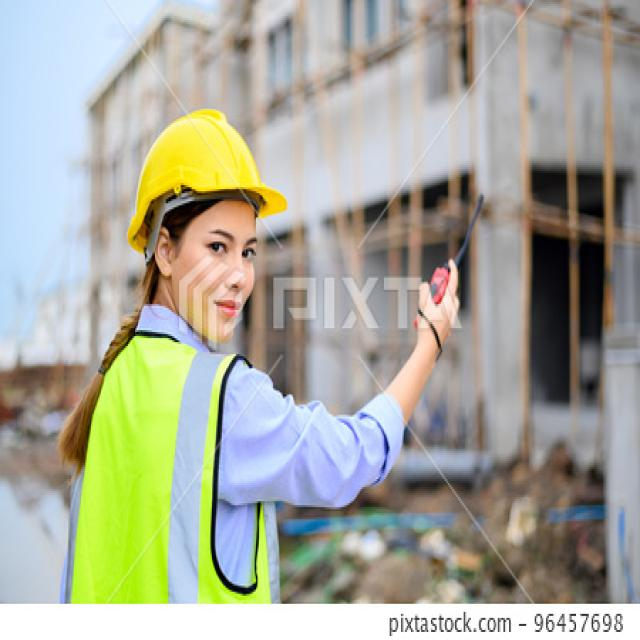helmet: (116, 114, 289, 245)
no-goggles: (152, 202, 280, 286)
vest: (61, 342, 273, 601)
